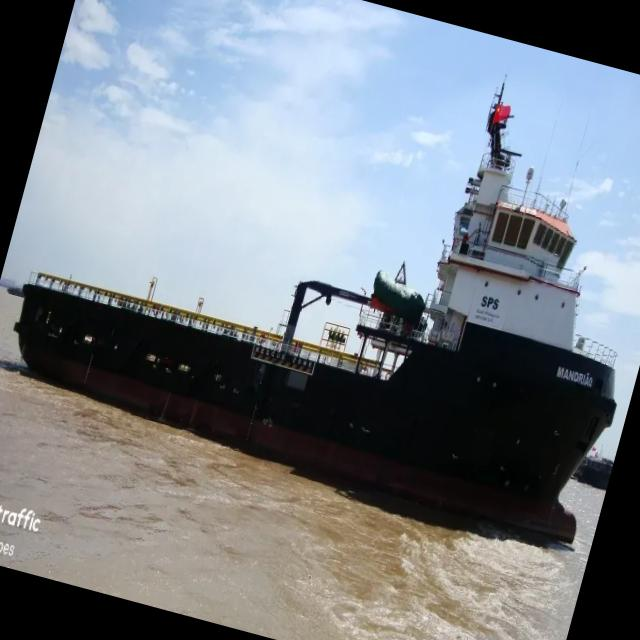Offshore: (13, 83, 616, 542)
